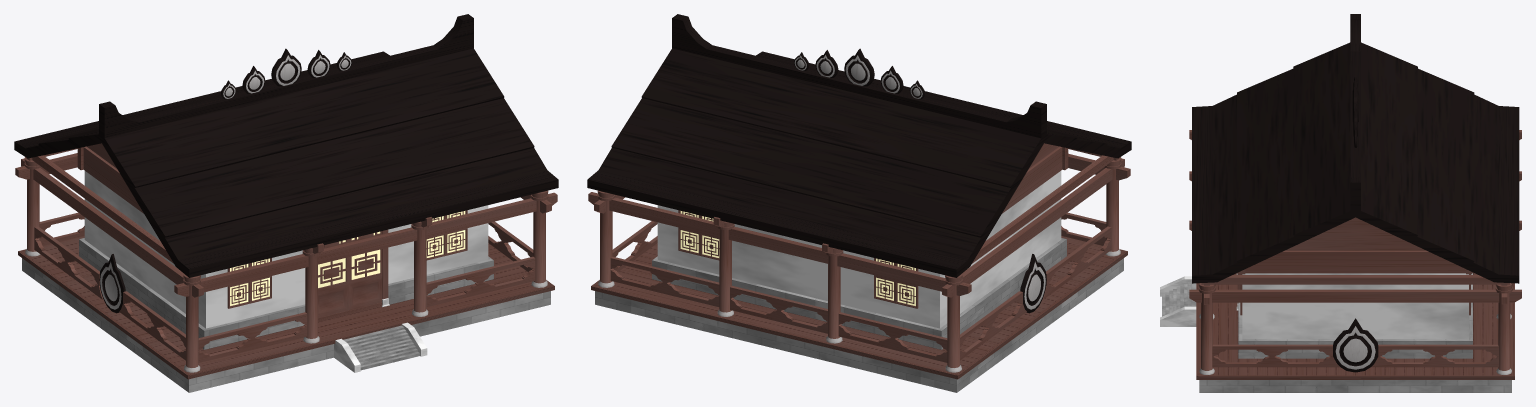
Rendered from japanese_house.glb.
3 renders of one model, left to right at view 1: azimuth 30°, elevation 25°; view 2: azimuth 150°, elevation 25°; view 3: azimuth 270°, elevation 25°, orthographic. The views are drawn at different scales.
Visible parts, largest first — view 1: Cube.022; view 2: Cube.022; view 3: Cube.022.
Boxes of the visible parts, box(x1,y1,x2,y2) form: Cube.022: box(14, 14, 558, 392); Cube.022: box(587, 14, 1131, 392); Cube.022: box(1160, 14, 1521, 392).
Size of the model in its own units: 10.5 by 6.3 by 9.25.
7 materials, 7 textured.
